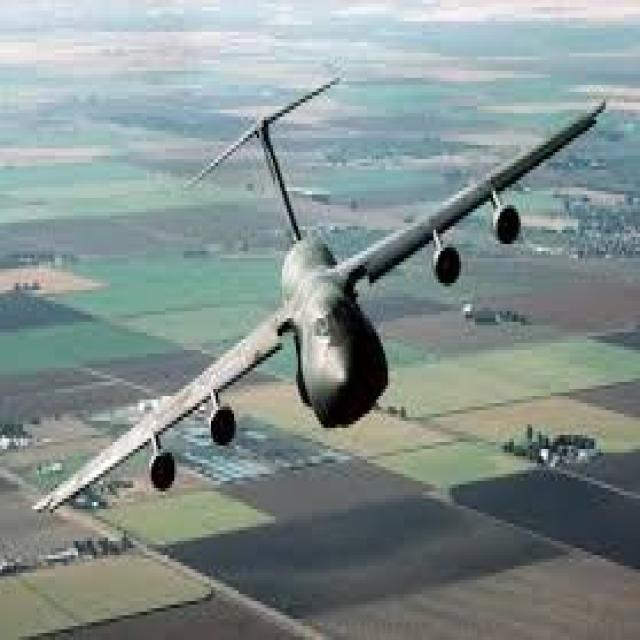C5: (18, 81, 640, 548)
